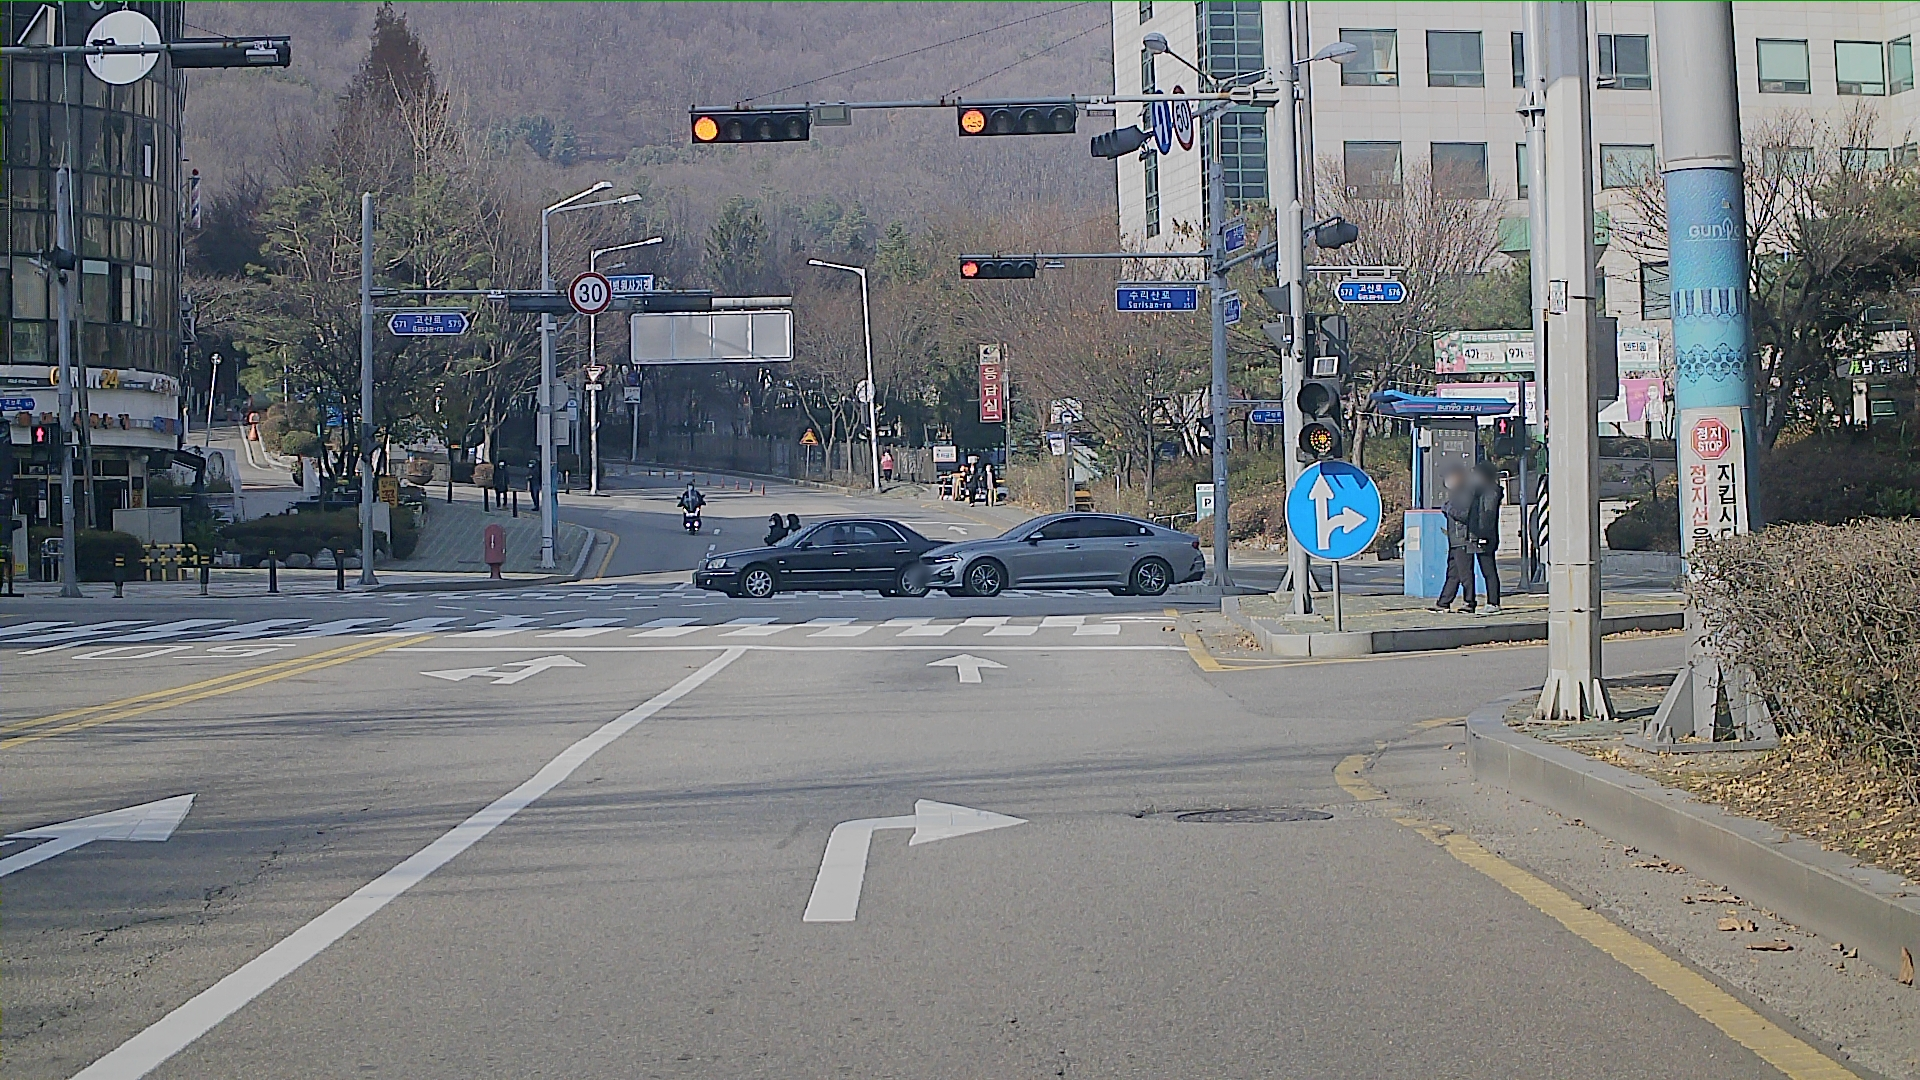trafficLight: (684, 105, 814, 148), (955, 98, 1077, 138), (957, 257, 1036, 280)
trafficLightBar: (1296, 375, 1342, 458)
trafficSignCircle: (1286, 462, 1383, 560), (1175, 84, 1193, 150), (1151, 92, 1164, 150)
